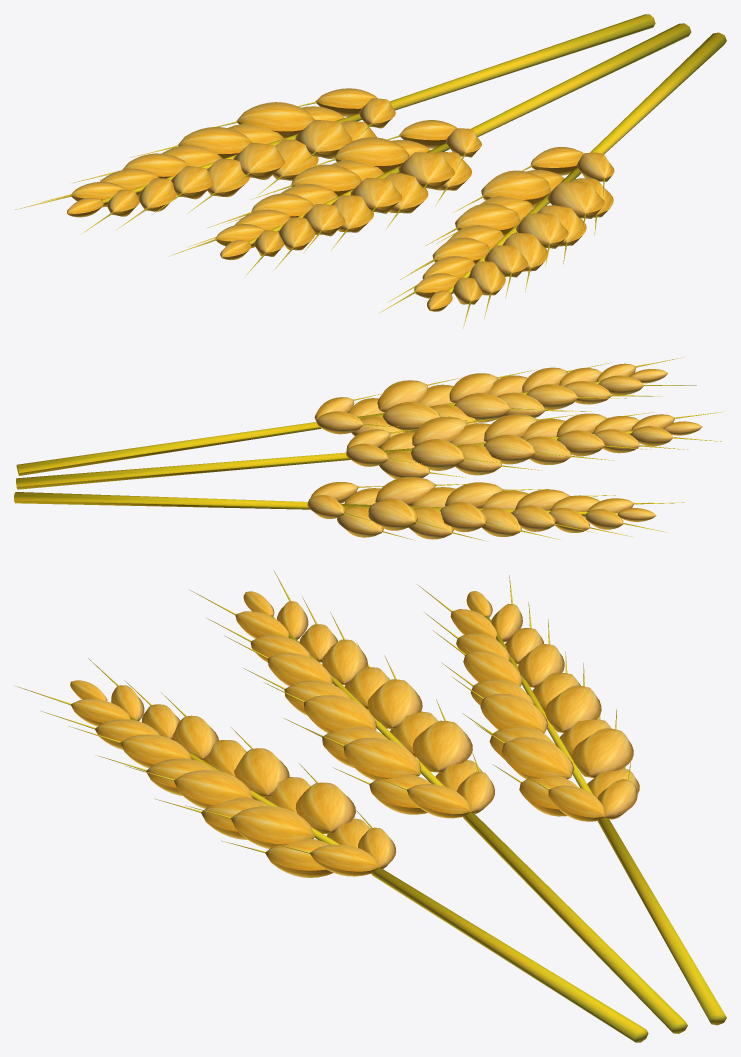
Rendered from NP_Wheat_Harvest.fbx.
The picture shows the model from 3 angles, top to bottom: view 1: azimuth 30°, elevation 25°; view 2: azimuth 150°, elevation 25°; view 3: azimuth 270°, elevation 25°; orthographic projection. The views are drawn at different scales.
Visible parts, largest first — view 1: NP_Wheat_Harvest; view 2: NP_Wheat_Harvest; view 3: NP_Wheat_Harvest.
Part boxes in pixels (x1,y1,x2,y2): NP_Wheat_Harvest: (15,14,726,328); NP_Wheat_Harvest: (14,357,724,541); NP_Wheat_Harvest: (14,571,726,1042).
Size of the model in its own units: 69.63 by 8.3 by 52.59.
